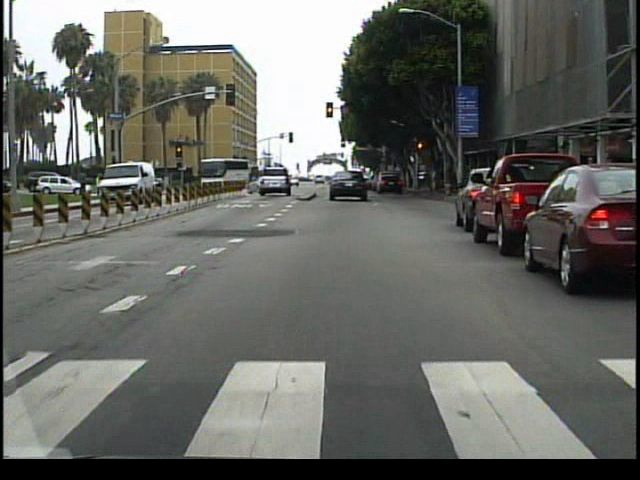person: (97, 171, 110, 207), (79, 168, 92, 194), (99, 171, 104, 202)
